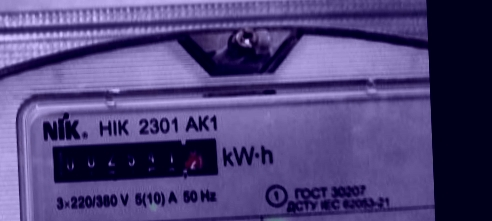0: (64, 151, 78, 172), (85, 148, 98, 170)
1: (166, 143, 177, 166)
2: (105, 146, 120, 169)
4: (146, 144, 157, 165)
5: (125, 145, 139, 169)
6: (188, 158, 200, 170)
screen: (40, 129, 231, 190)
